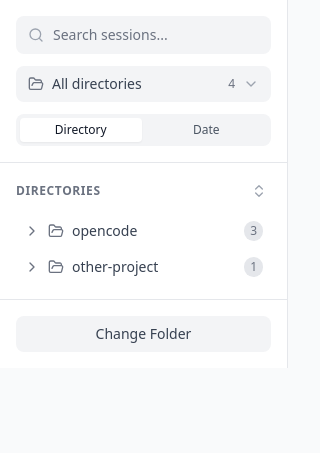
Scenario: SessionBrowser › expand/collapse › expands and collapses a directory when clicking on it
Expected: the text "Implement feature X" is not shown
// Click to expand the opencode directory
Click the button with aria-label "Expand opencode" at (144, 231), box top-left (16, 215), bottom-right (271, 247)
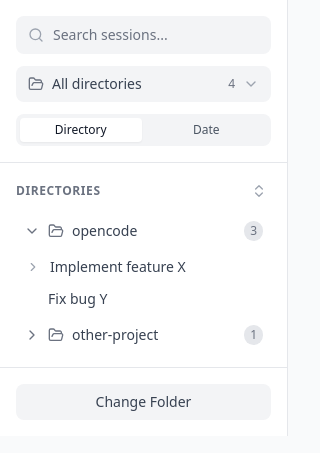
Now the text "Implement feature X" is shown, box top-left (50, 257), bottom-right (186, 276)
Now the text "Fix bug Y" is shown, box top-left (48, 289), bottom-right (107, 308)
// Click to collapse it again
Click the button with aria-label "Collapse opencode" at (144, 231), box top-left (16, 215), bottom-right (271, 247)
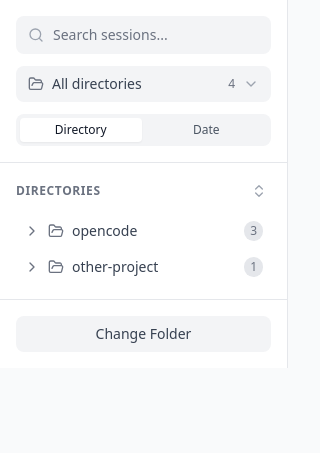
Now the button "Implement feature X" is gone
